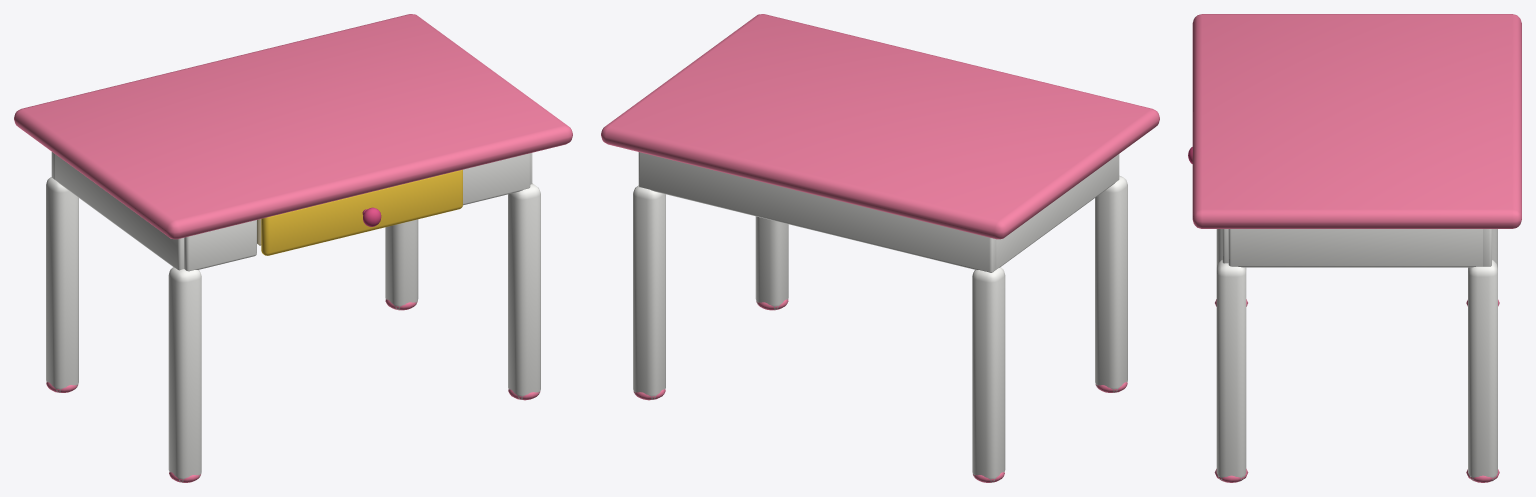
The model's file is mesa_infantil_gaveta_rosa.glb.
The picture shows the model from 3 angles, left to right: view 1: azimuth 30°, elevation 25°; view 2: azimuth 150°, elevation 25°; view 3: azimuth 270°, elevation 25°; orthographic projection. The views are drawn at different scales.
Visible parts, largest first — view 1: mesa_infantil_gaveta_rosa, gaveta_1; view 2: mesa_infantil_gaveta_rosa; view 3: mesa_infantil_gaveta_rosa.
Part boxes in pixels (x1=…): mesa_infantil_gaveta_rosa: x1=14, y1=14, x2=572, y2=482; gaveta_1: x1=257, y1=169, x2=462, y2=255; mesa_infantil_gaveta_rosa: x1=601, y1=14, x2=1159, y2=482; mesa_infantil_gaveta_rosa: x1=1192, y1=14, x2=1521, y2=482.
Size of the model in its own units: 0.8 by 0.522 by 0.5576.
1 material, 1 textured.
